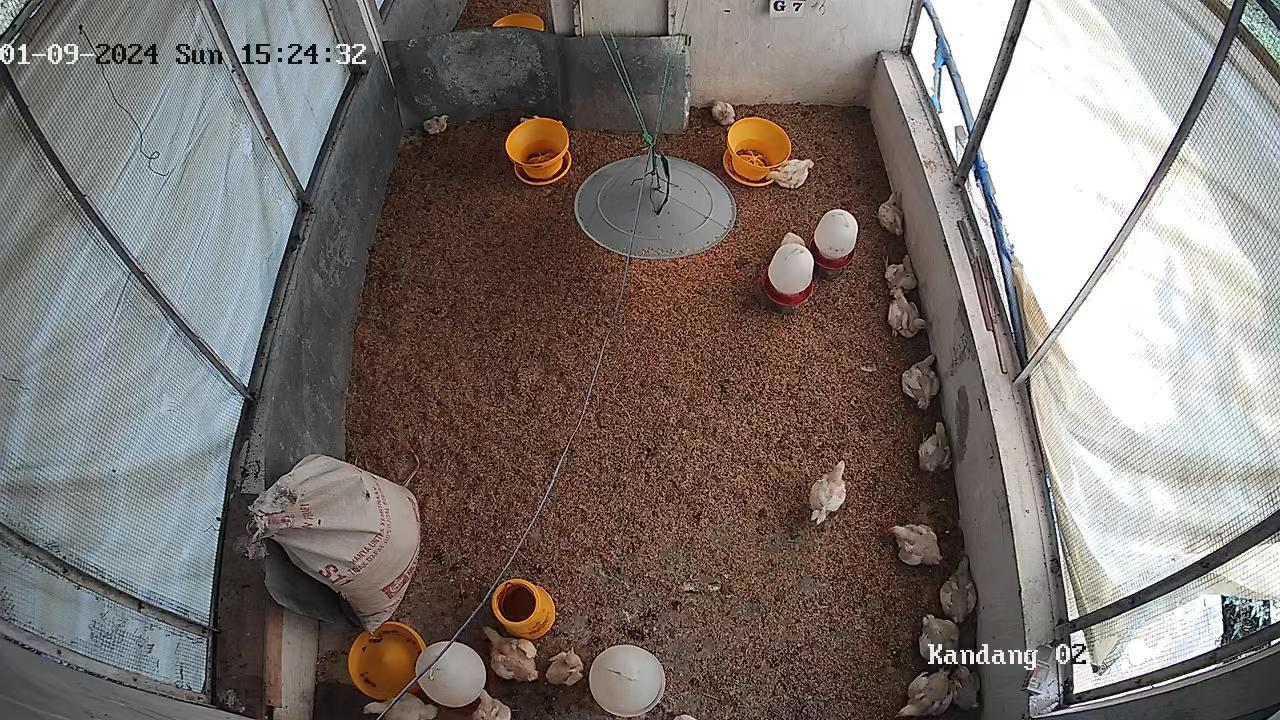chicken: (480, 625, 542, 685), (893, 668, 954, 720), (919, 612, 971, 667), (806, 458, 848, 526), (940, 553, 978, 624), (883, 522, 942, 567), (900, 352, 942, 412), (362, 689, 439, 720), (888, 291, 931, 340), (917, 421, 954, 474), (545, 646, 585, 689), (763, 157, 815, 190), (874, 186, 906, 238), (951, 664, 984, 711), (470, 687, 513, 720), (885, 251, 917, 295), (710, 97, 736, 127), (422, 113, 452, 135), (779, 229, 806, 247)
